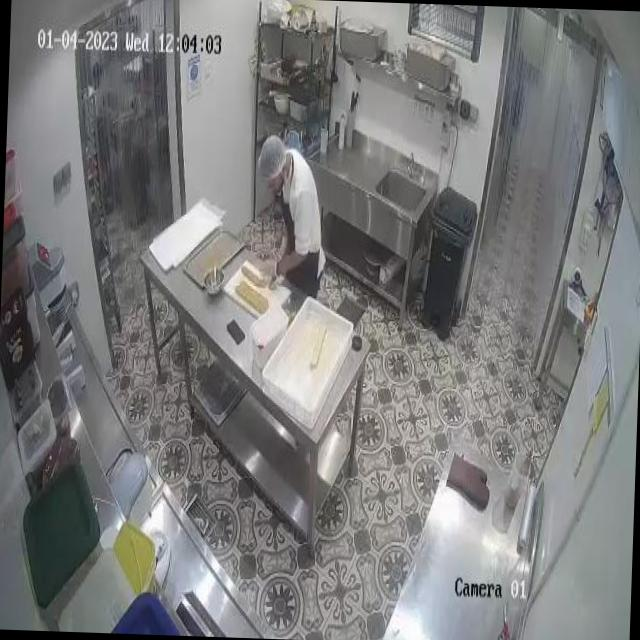hairnet: (254, 134, 285, 176)
